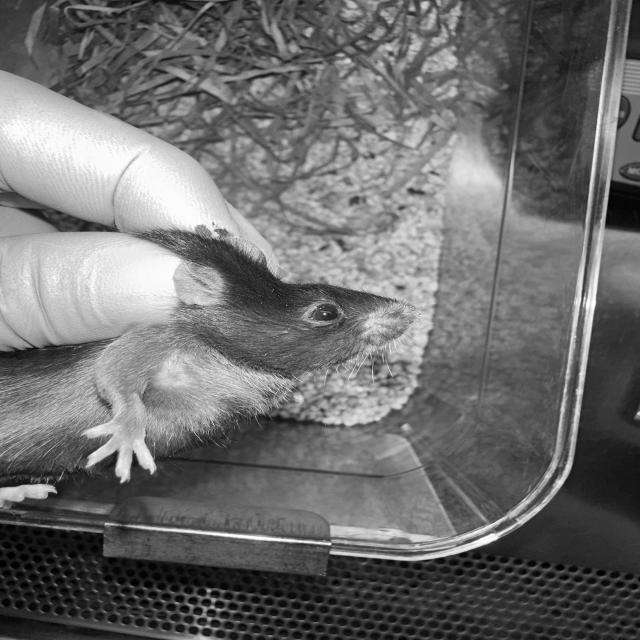Face: (176, 246, 420, 377)
